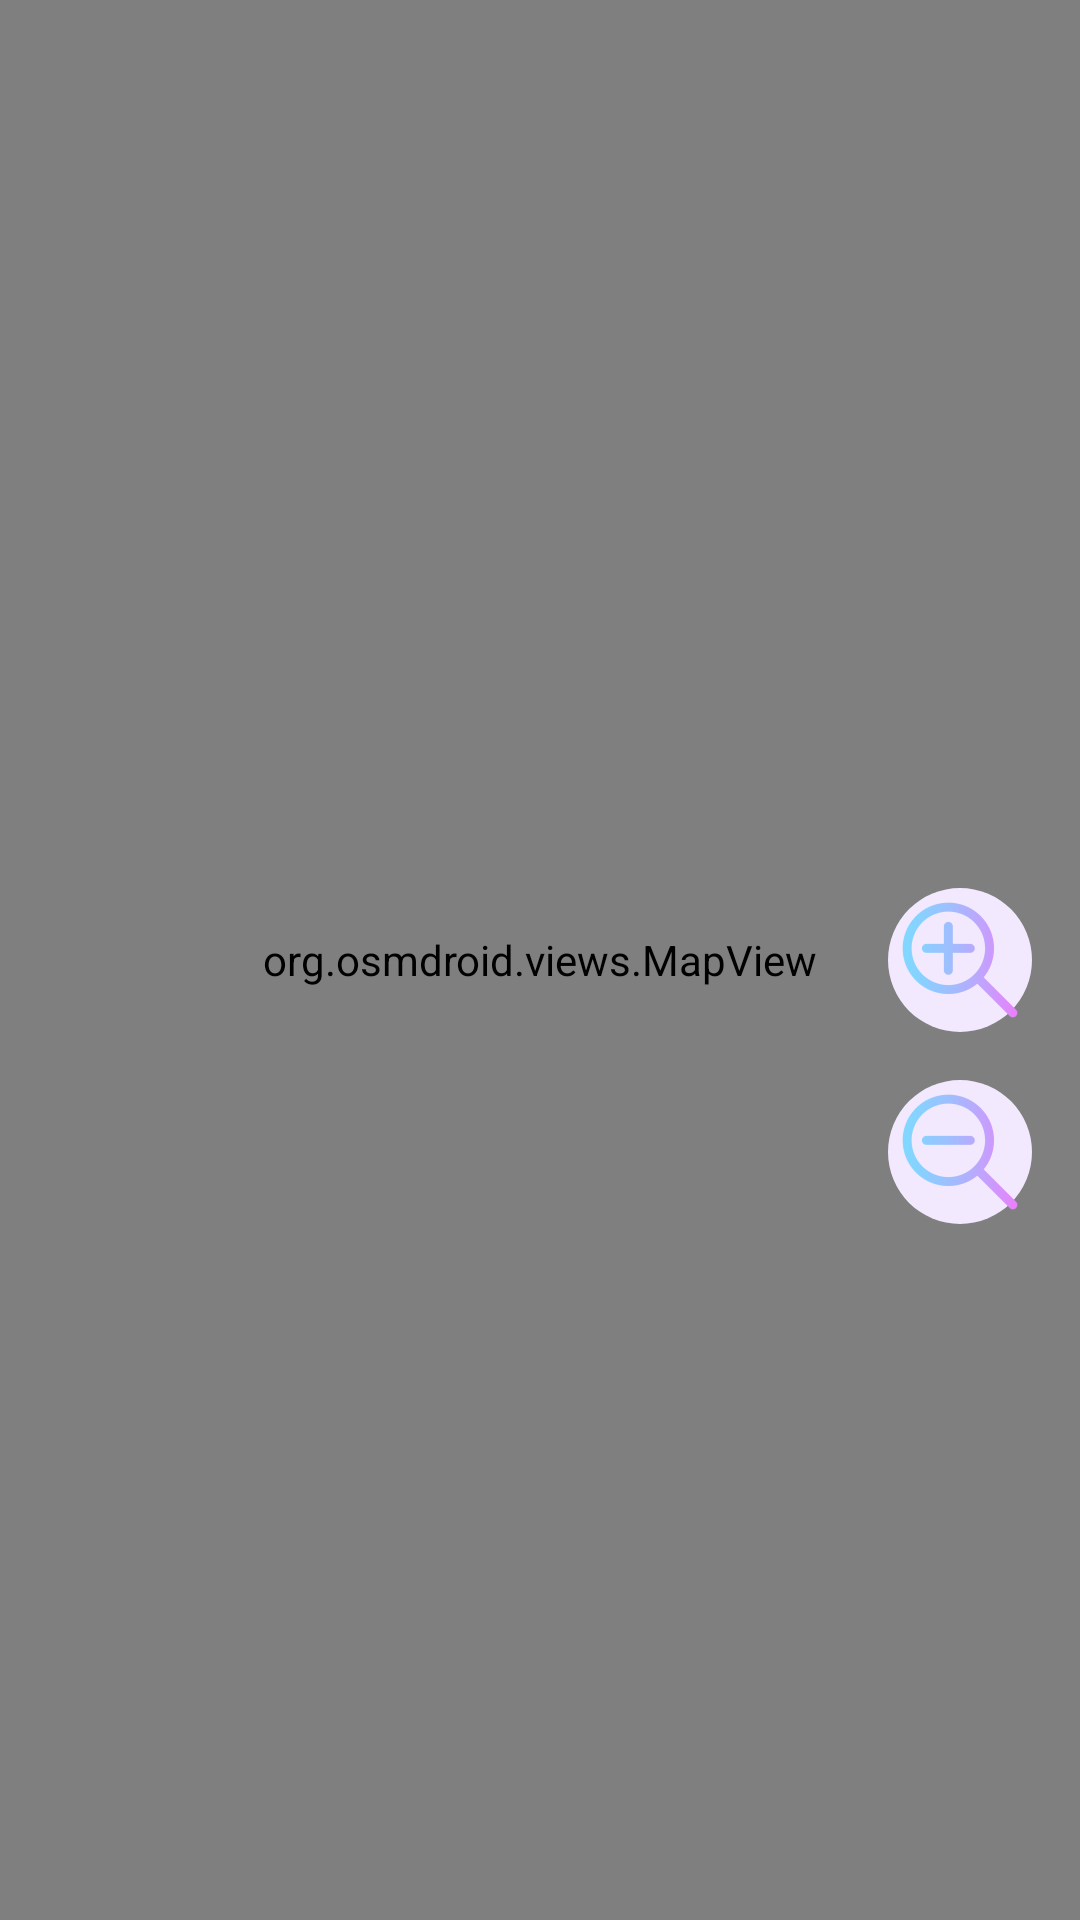

Icon bounding boxes for this 1080w x 1920h phone screenshot, format (x1, y1, x2, y2):
zoom in: (888, 888, 1032, 1032)
zoom out: (888, 1080, 1032, 1224)
